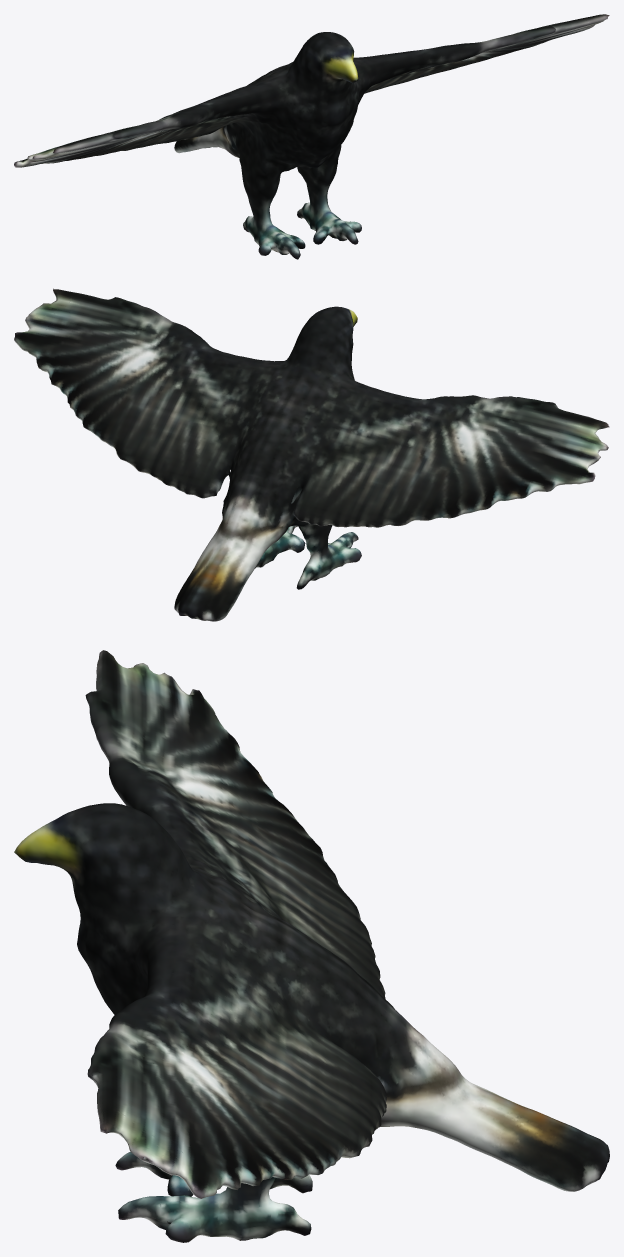
Rendered from a_big_condor_with_black_an_white_color_open_its_wings__3d_model.glb.
3 renders of one model, top to bottom at view 1: azimuth 30°, elevation 25°; view 2: azimuth 150°, elevation 25°; view 3: azimuth 270°, elevation 25°, orthographic. The views are drawn at different scales.
Size of the model in its own units: 0.9537 by 0.3638 by 0.4796.
Materials: 1 (1 with a texture image).
